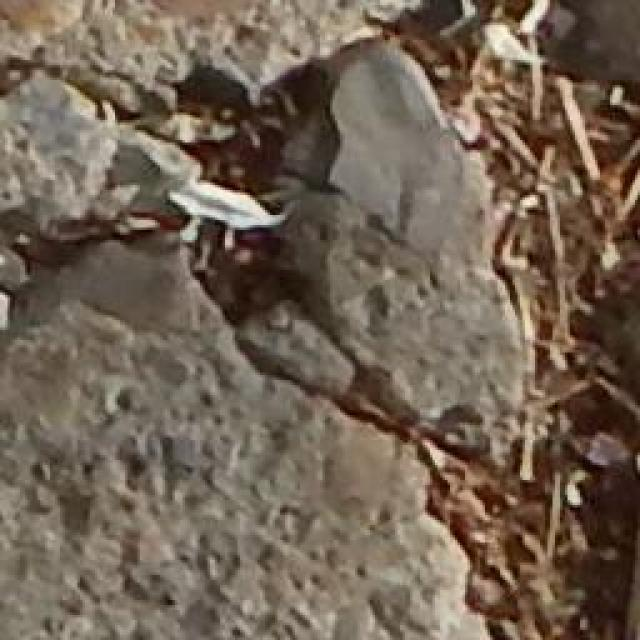concrete-crack: (0, 0, 529, 640)
